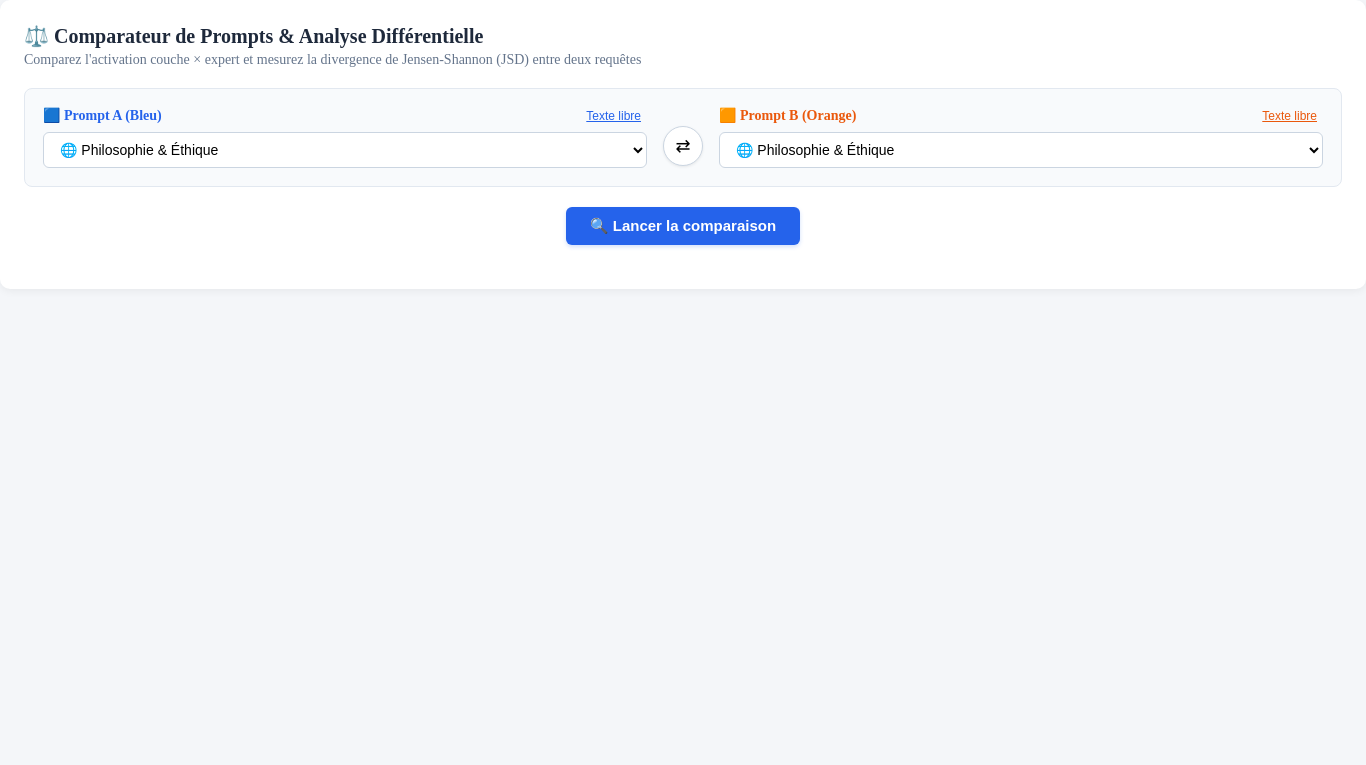
PromptComparator Component › runs comparison and renders JSD scores, differential heatmap, and divergent experts
Step 1. Click the button with test id "compare-prompts-btn" → click(683, 226), box [566,207,800,245]
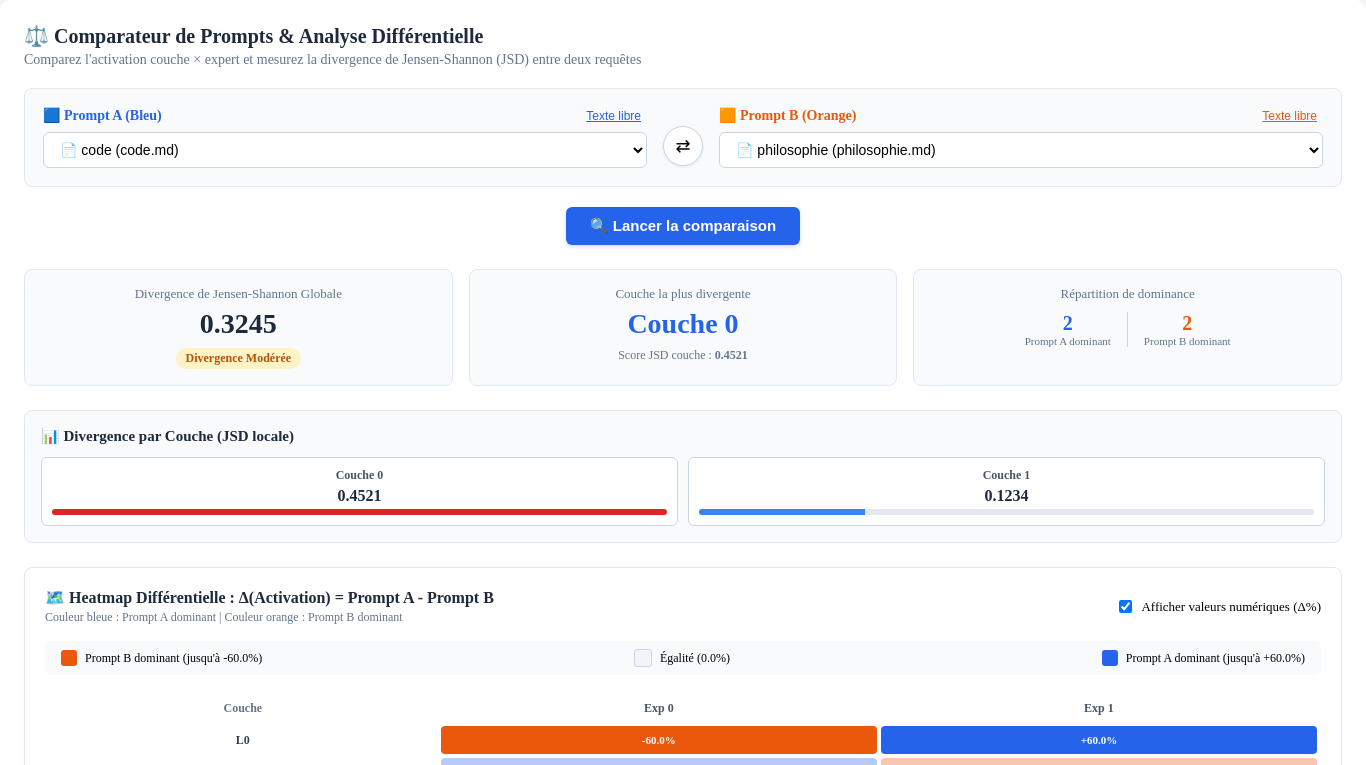
Result: the text with test id "global-jsd-value" reads "0.3245" at [200,308,277,339]
Result: the text "Divergence Modérée" is shown at [176,348,301,369]
Result: the text with test id "max-divergent-layer" reads "Couche 0" at [627,308,739,339]
// Hover cell
Step 2. Hover over the cell with test id "diff-cell-0-1" → (1099, 740), box [881,726,1317,754]
(page scrolled)
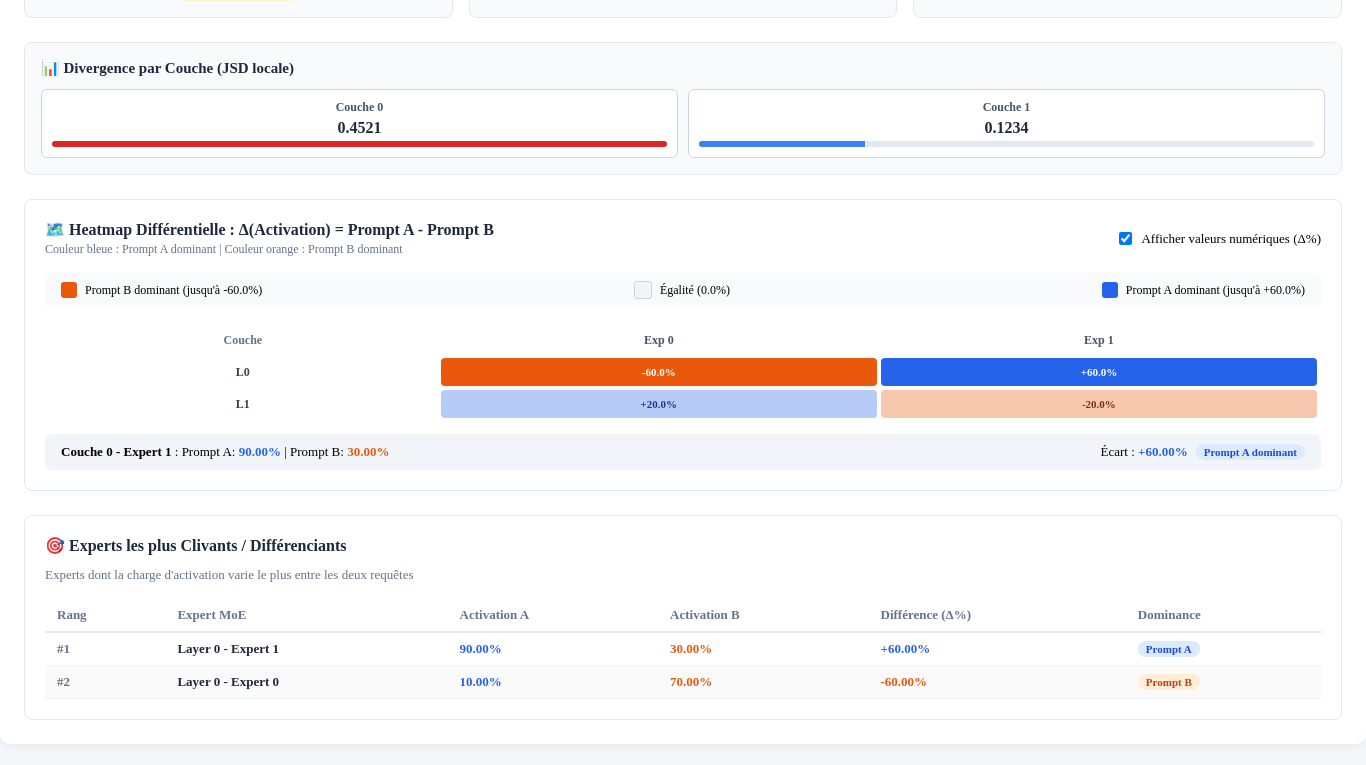
Result: the table with test id "divergent-experts-table" is shown at [45,599,1321,699]
Result: the element with test id "hovered-cell-info" shows "Prompt A: 90.00%" at [45,434,1321,470]
Result: the element with test id "hovered-cell-info" shows "Prompt A dominant" at [1204,446,1297,458]
